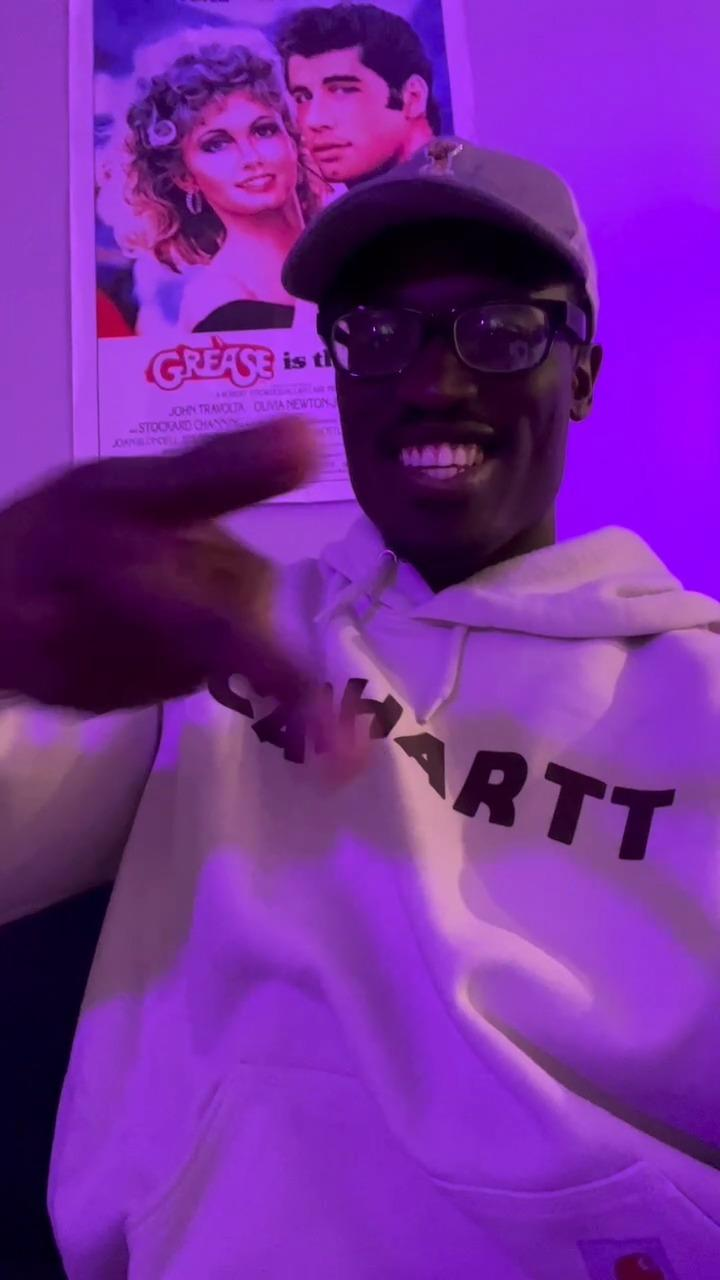Scissors: (0, 412, 345, 790)
